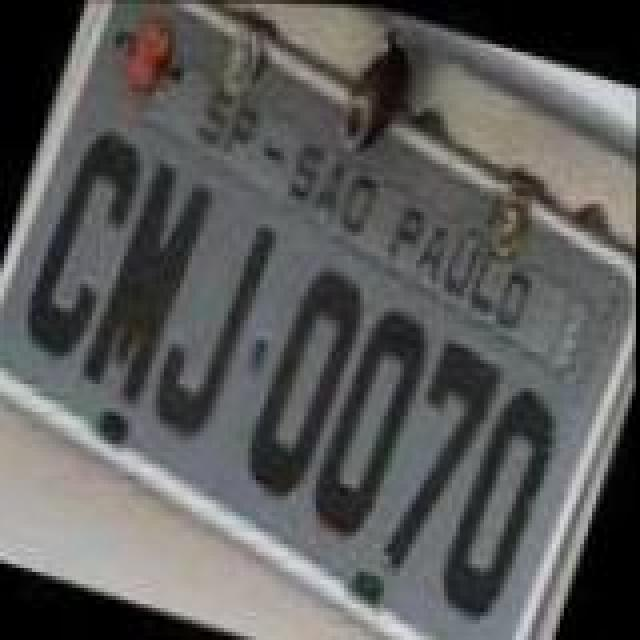7: (366, 326, 510, 582)
C: (8, 114, 152, 366)
J: (142, 200, 282, 444)
M: (68, 152, 216, 412)
O: (296, 292, 440, 548), (428, 372, 572, 628), (234, 256, 378, 508)
